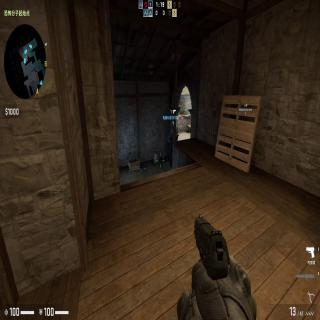CT-Body: (167, 126, 173, 168)
